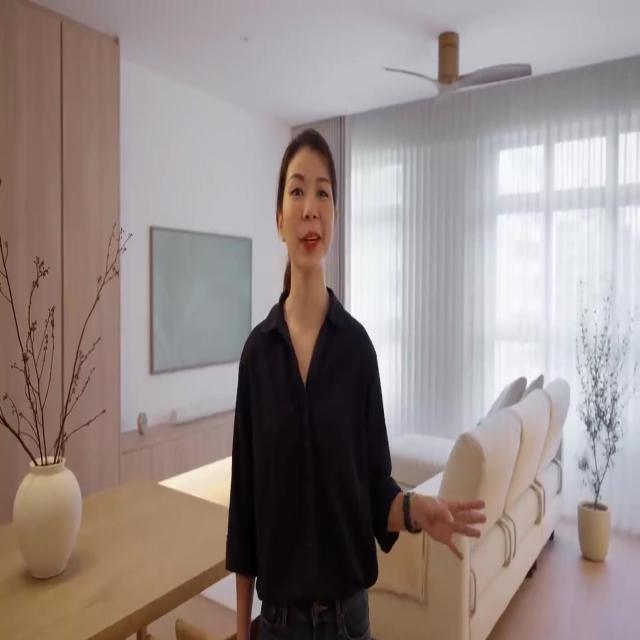obstacle: (366, 374, 570, 638), (0, 476, 234, 638)
person: (224, 127, 486, 639)
